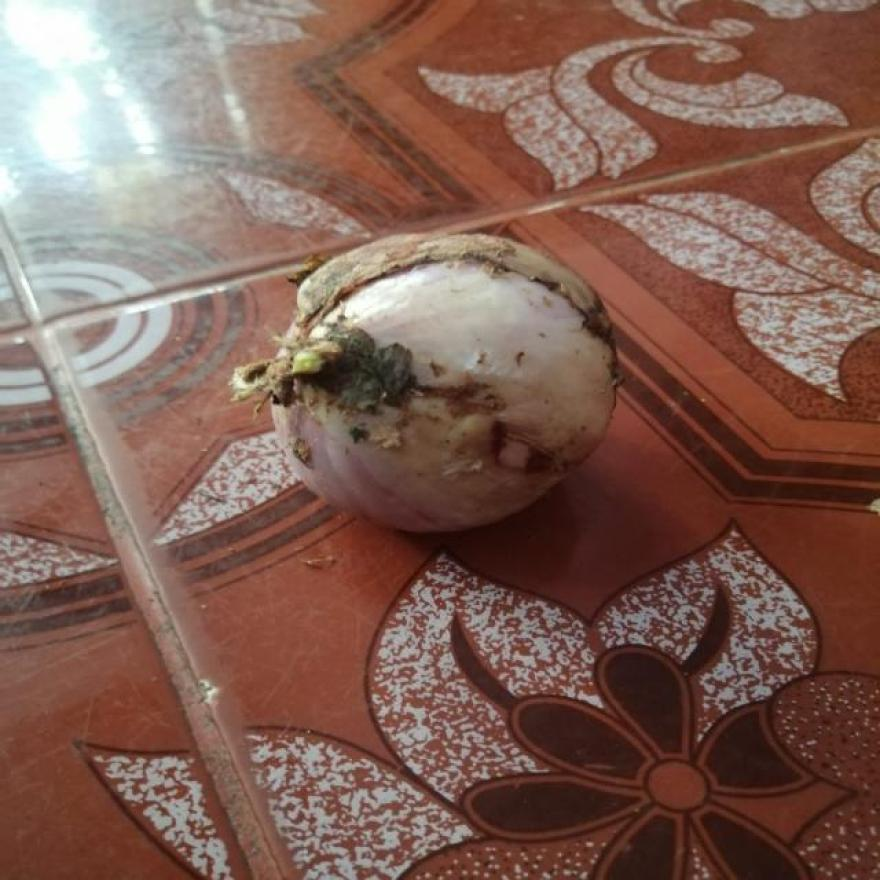Rotten: (311, 334, 580, 469)
